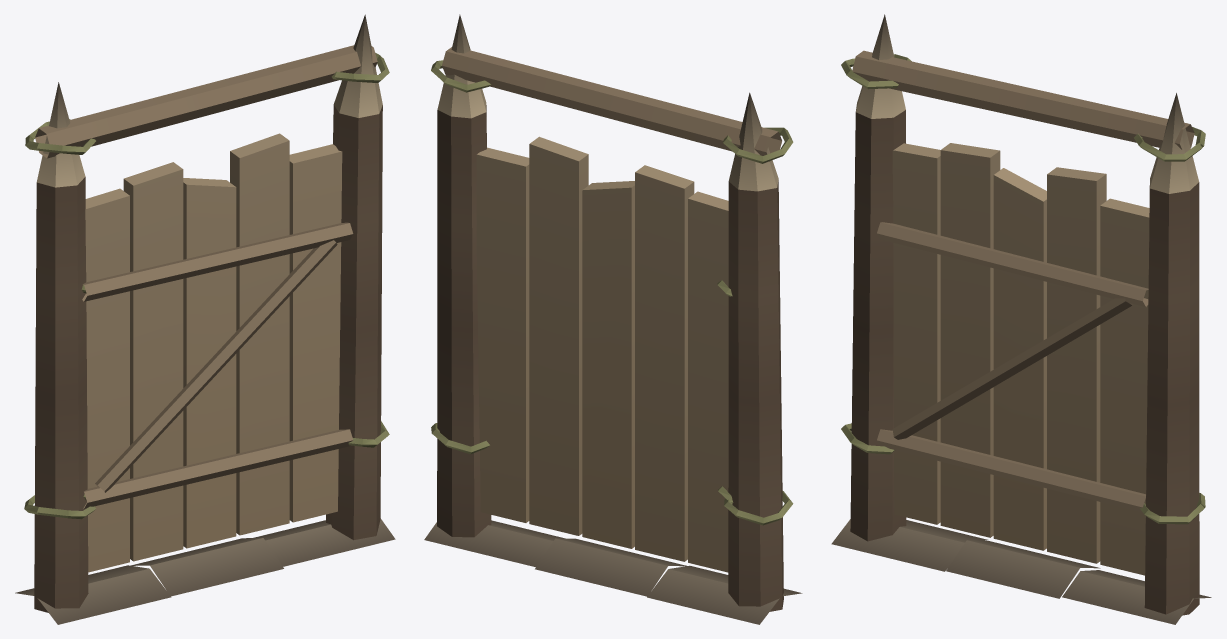
The model's file is gate_a.glb.
3 renders of one model, left to right at view 1: azimuth 30°, elevation 25°; view 2: azimuth 150°, elevation 25°; view 3: azimuth 330°, elevation 25°, orthographic.
Parts seen in each view (by area): view 1: Door, Frame; view 2: Door, Frame; view 3: Door, Frame.
Boxes of the visible parts, x1,y1,x2,y2 form: Door: (81,133,353,572); Frame: (15,14,395,624); Door: (476,136,733,572); Frame: (424,14,802,624); Door: (877,143,1149,575); Frame: (831,14,1211,624).
Bounding box in the file's own units: 1.04 × 1.45 × 0.2217.
